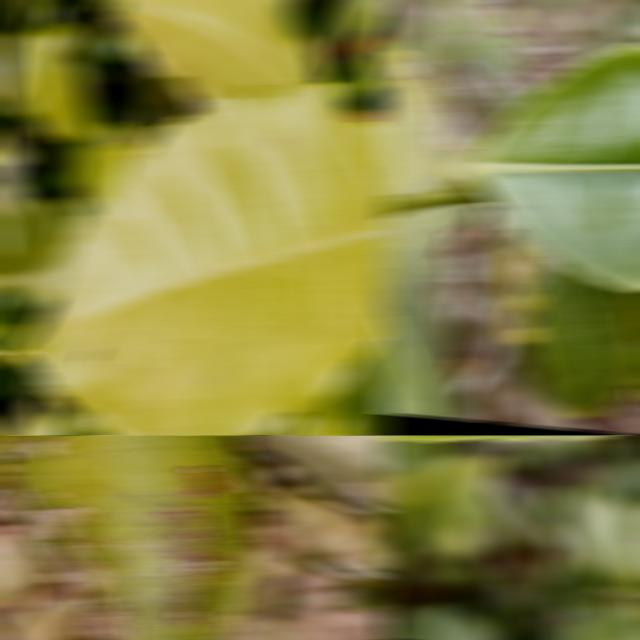Leaf: (0, 78, 390, 435), (0, 435, 257, 640), (449, 42, 640, 291), (108, 0, 327, 105), (378, 203, 483, 416), (526, 261, 640, 433), (378, 48, 470, 194), (232, 435, 390, 513), (3, 30, 99, 143), (258, 492, 390, 574), (0, 197, 80, 308), (407, 452, 504, 534), (573, 488, 640, 588), (303, 370, 390, 435), (0, 593, 72, 640), (359, 26, 390, 89), (4, 396, 52, 435), (345, 0, 390, 41), (245, 612, 303, 640), (15, 0, 42, 27)
